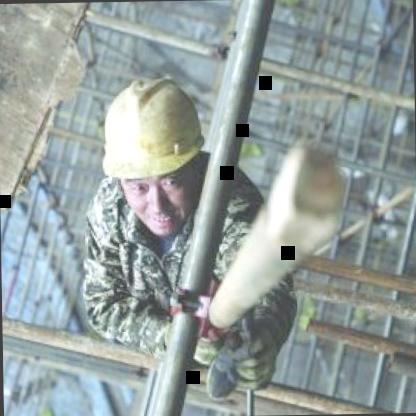helmet: (92, 62, 218, 238)
